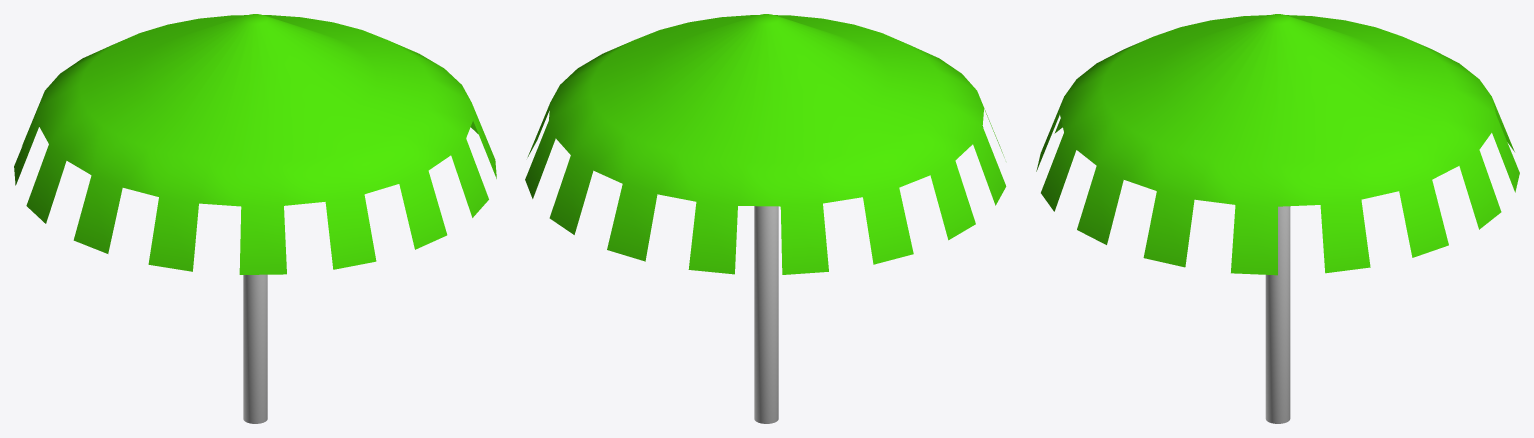
Rendered from Umbrella.glb.
3 renders of one model, left to right at view 1: azimuth 30°, elevation 25°; view 2: azimuth 150°, elevation 25°; view 3: azimuth 270°, elevation 25°, orthographic.
Visible parts, largest first — view 1: Cylinder, Cylinder.001; view 2: Cylinder, Cylinder.001; view 3: Cylinder, Cylinder.001.
Boxes of the visible parts, x1,y1,x2,y2 form: Cylinder: (14,14,496,274); Cylinder.001: (243,274,267,423); Cylinder: (525,14,1006,274); Cylinder.001: (754,206,778,423); Cylinder: (1036,14,1519,275); Cylinder.001: (1265,206,1290,423).
Bounding box in the file's own units: 11.82 × 10.77 × 11.82.
